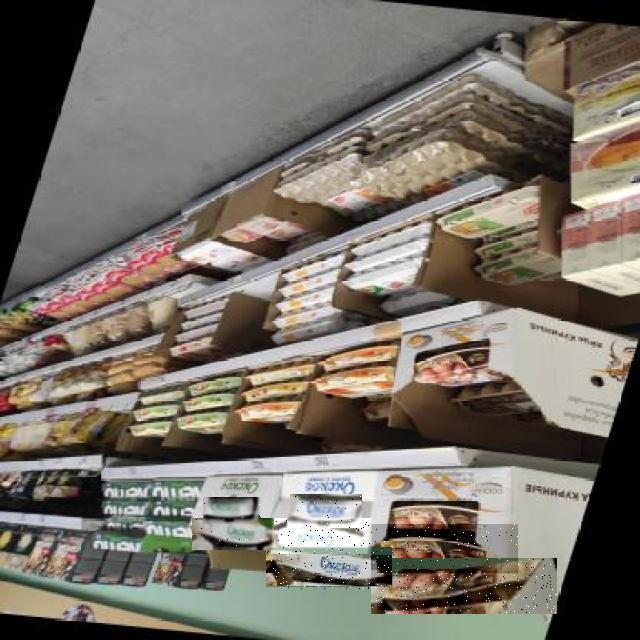Eggs: (371, 558, 557, 614), (371, 524, 518, 573), (266, 548, 392, 590), (272, 518, 374, 554), (192, 519, 274, 551), (290, 494, 362, 528), (204, 498, 262, 526)
